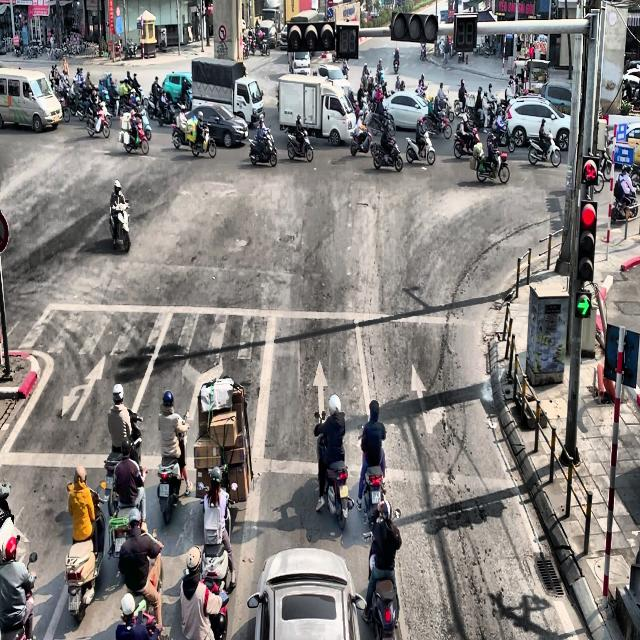CAR: (247, 546, 368, 640), (504, 97, 570, 151), (183, 103, 249, 148), (382, 92, 431, 130), (313, 64, 354, 105), (162, 71, 192, 109)
MOTORBIKE: (64, 484, 107, 623), (361, 531, 400, 639), (157, 412, 190, 525), (108, 465, 148, 558), (317, 435, 354, 530), (103, 409, 143, 496), (0, 552, 37, 639), (356, 424, 386, 524), (0, 482, 20, 564), (473, 148, 510, 184), (119, 113, 149, 155), (249, 126, 277, 167), (186, 121, 217, 158), (528, 133, 561, 167), (370, 137, 402, 172), (109, 200, 130, 252), (406, 130, 436, 165), (284, 127, 313, 162), (366, 106, 396, 138), (420, 110, 452, 139), (489, 118, 515, 153), (86, 102, 110, 138), (453, 126, 480, 158), (610, 193, 638, 222), (349, 125, 374, 156), (171, 116, 191, 149), (53, 88, 70, 122), (157, 96, 175, 125), (416, 82, 429, 100), (260, 36, 270, 56), (395, 76, 405, 92), (420, 43, 427, 61), (393, 55, 399, 73)
TRAFFIC_LIGHT: (577, 198, 597, 282), (389, 10, 439, 43), (581, 155, 599, 185)
TRUCK: (277, 74, 357, 146), (191, 57, 264, 126)
